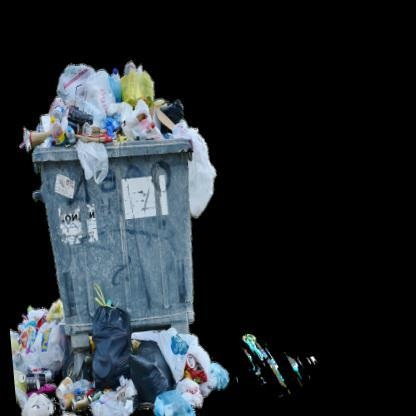Garbage: (8, 293, 71, 415), (84, 282, 142, 397), (21, 98, 100, 151), (186, 128, 226, 218), (152, 325, 204, 384), (26, 308, 64, 380), (78, 68, 114, 134), (54, 56, 96, 112), (116, 64, 154, 110), (135, 353, 165, 410), (73, 139, 111, 180), (26, 360, 56, 411), (113, 101, 153, 138), (94, 380, 134, 415), (150, 382, 189, 415), (194, 367, 230, 400), (172, 105, 196, 140), (58, 388, 90, 414), (160, 100, 183, 136), (182, 375, 206, 407), (24, 394, 55, 415), (110, 58, 124, 102)
